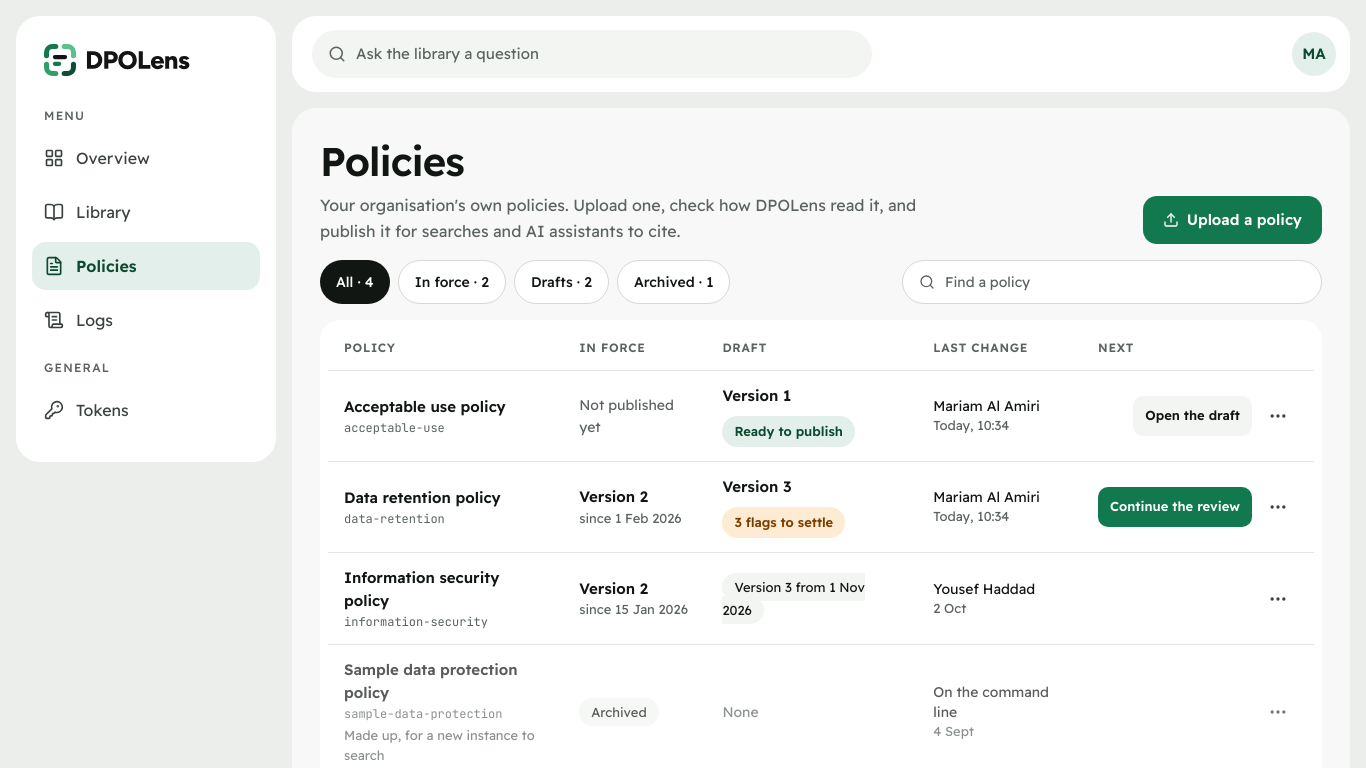
policies › lists each policy with where it stands and what comes next
Expected: the link "Data retention policy" is shown, [344,488,501,507]
Expected: the text "since 1 Feb 2026" is shown, [579,508,690,528]
Click the button "Drafts · 2": {"x": 561, "y": 282} [514,260,609,304]
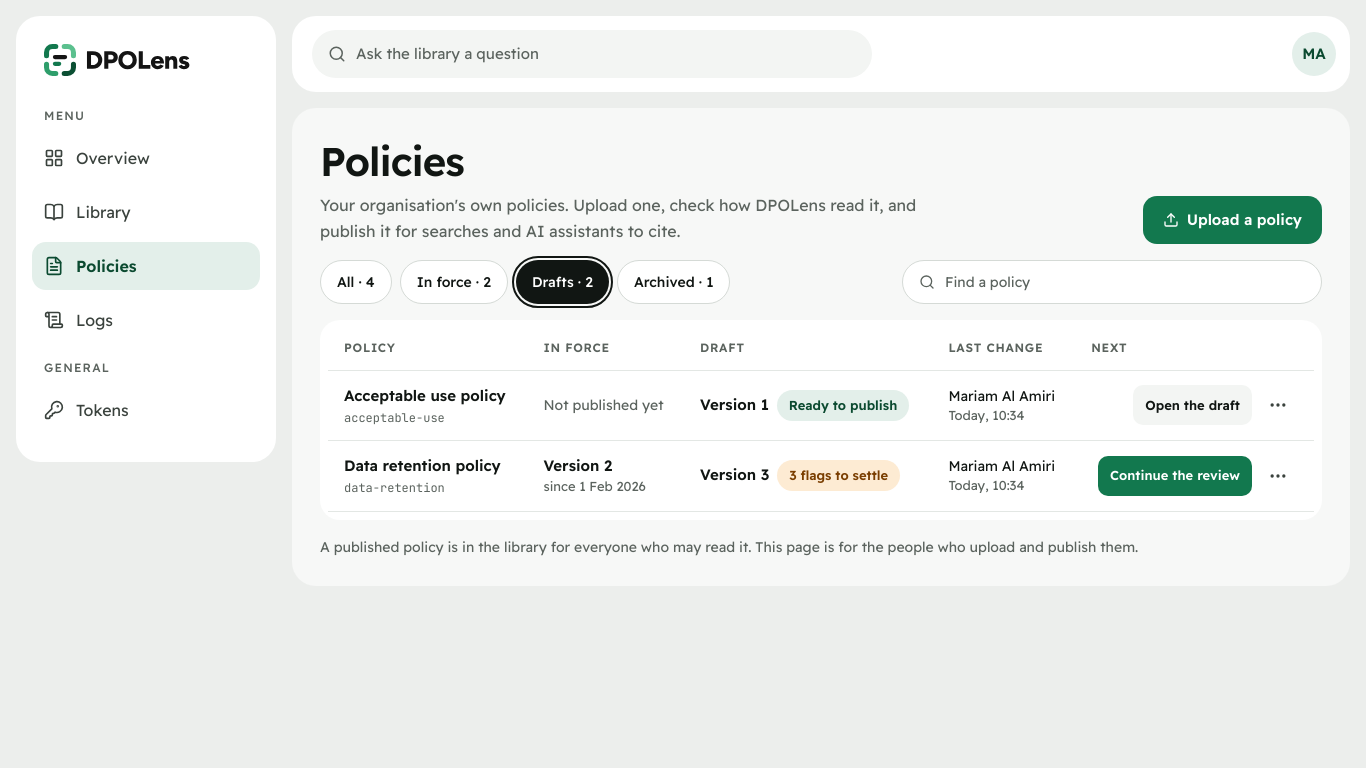
Expected: the text "Acceptable use policy" is shown, [344,386,506,405]
Now the link "Information security policy" is gone
